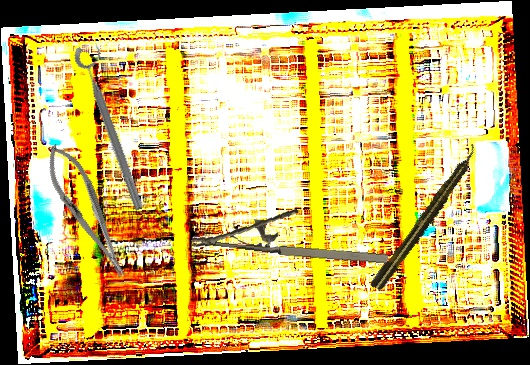Fixation Ring: (71, 40, 158, 213)
Handpiece: (368, 142, 484, 294)
Needle Holder: (35, 137, 139, 286), (190, 197, 393, 270)
